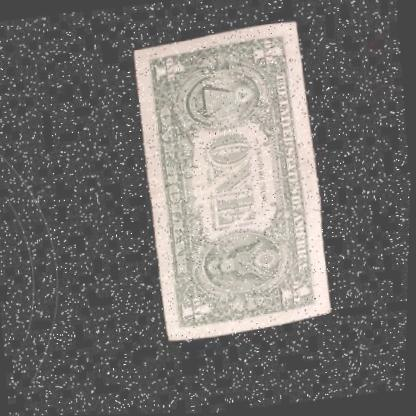dollar_back: (115, 21, 342, 351)
